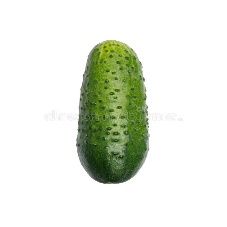cucumber: (74, 37, 150, 187)
